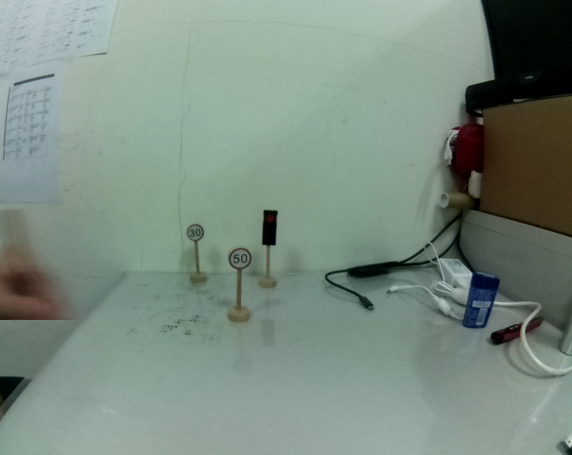Red: (258, 208, 280, 250)
Speed30: (185, 221, 205, 242)
Speed50: (228, 245, 252, 271)
